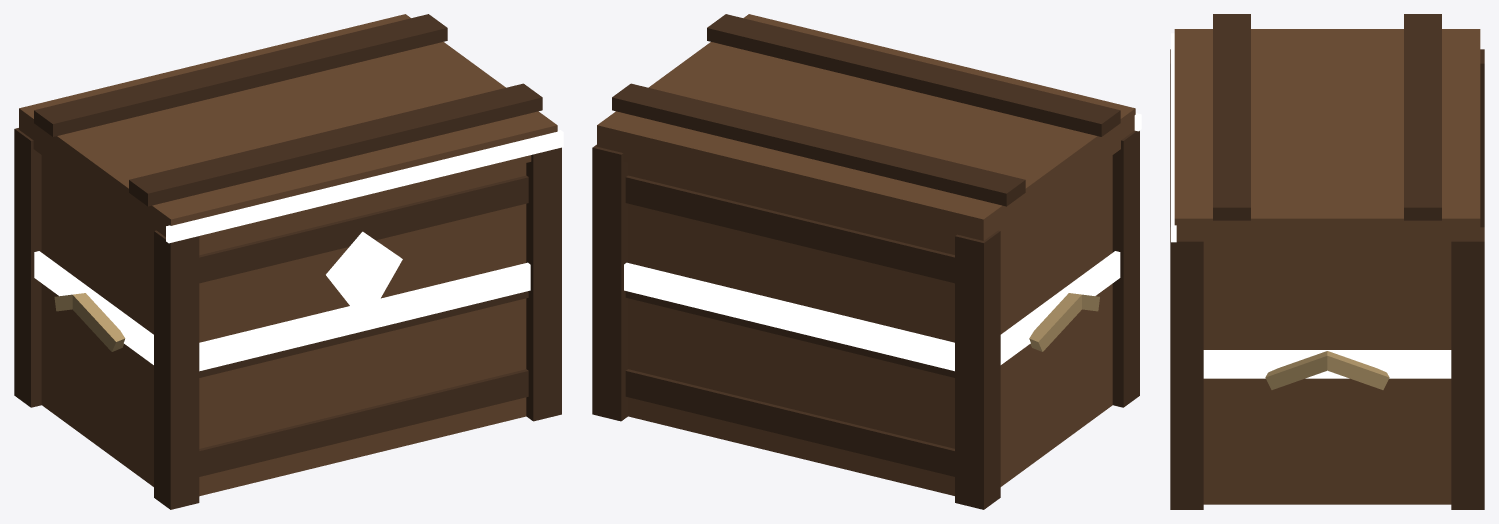
Rendered from Prop_LootCrate_Rare.fbx.
3 renders of one model, left to right at view 1: azimuth 30°, elevation 25°; view 2: azimuth 150°, elevation 25°; view 3: azimuth 270°, elevation 25°, orthographic.
Parts seen in each view (by area): view 1: Prop_LootCrate_Rare_Body, Prop_LootCrate_Rare_Lid; view 2: Prop_LootCrate_Rare_Body, Prop_LootCrate_Rare_Lid; view 3: Prop_LootCrate_Rare_Body, Prop_LootCrate_Rare_Lid.
Boxes of the visible parts, left/top/right/bottom form: Prop_LootCrate_Rare_Body: left=14, top=128, right=561, bottom=509; Prop_LootCrate_Rare_Lid: left=19, top=14, right=563, bottom=243; Prop_LootCrate_Rare_Body: left=592, top=130, right=1139, bottom=509; Prop_LootCrate_Rare_Lid: left=597, top=14, right=1141, bottom=242; Prop_LootCrate_Rare_Body: left=1170, top=49, right=1484, bottom=509; Prop_LootCrate_Rare_Lid: left=1171, top=14, right=1480, bottom=248.
Bounding box in the file's own units: 1.05 × 0.7 × 0.658.
